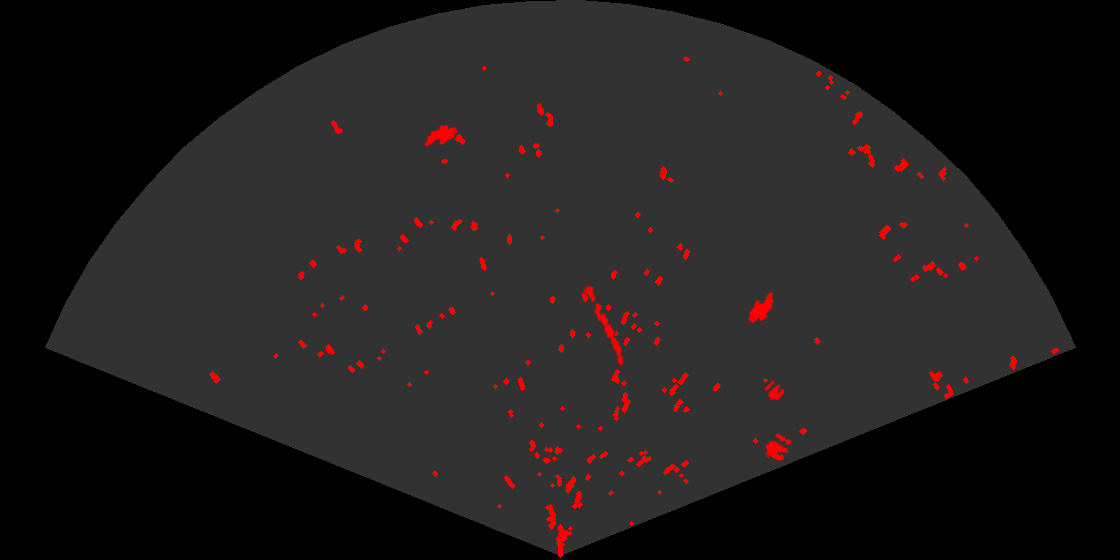AUV: (747, 290, 775, 325), (423, 123, 460, 148)
ball: (764, 432, 793, 463), (763, 379, 786, 402)
chain: (581, 277, 625, 368)
